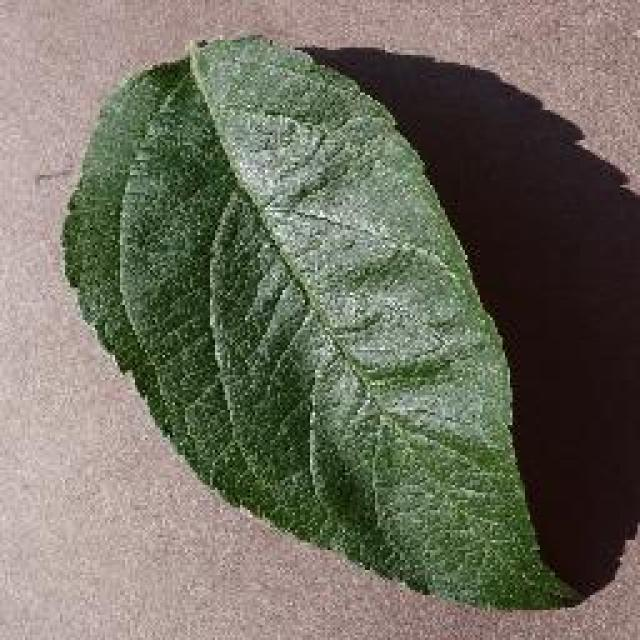apple healthy: (58, 30, 638, 610)
